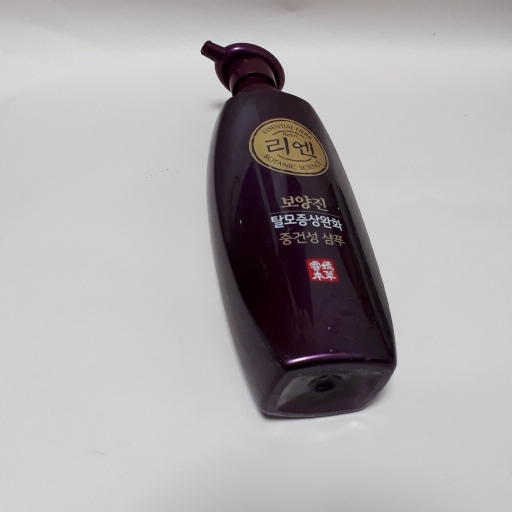Plastic_3: (195, 32, 399, 419)
